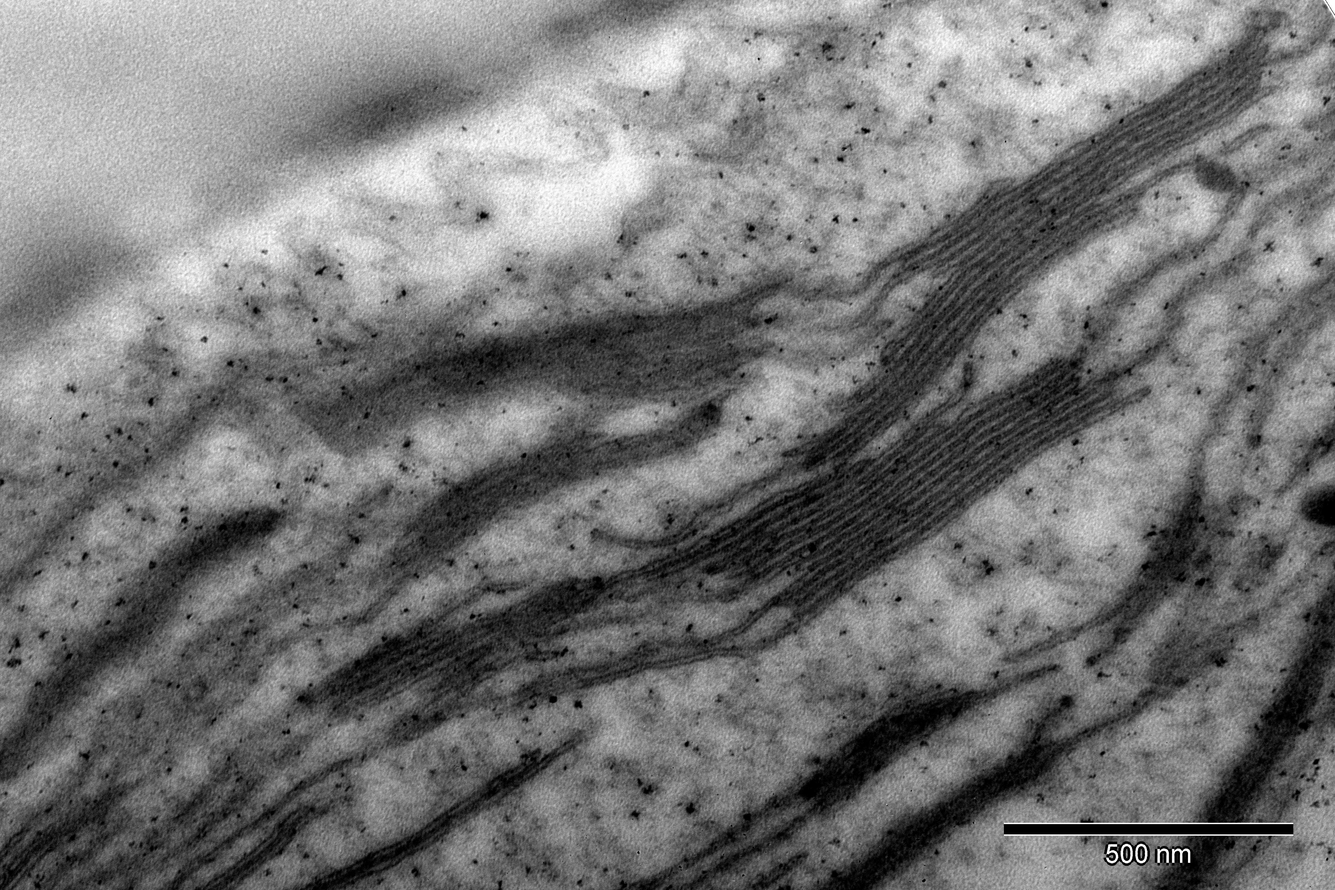granum: (786, 41, 1273, 472), (685, 351, 1134, 628), (291, 284, 754, 463), (0, 500, 286, 784), (371, 401, 720, 588), (1142, 570, 1335, 890), (303, 573, 599, 728), (813, 740, 1077, 890), (789, 673, 986, 820), (1107, 526, 1210, 634)
